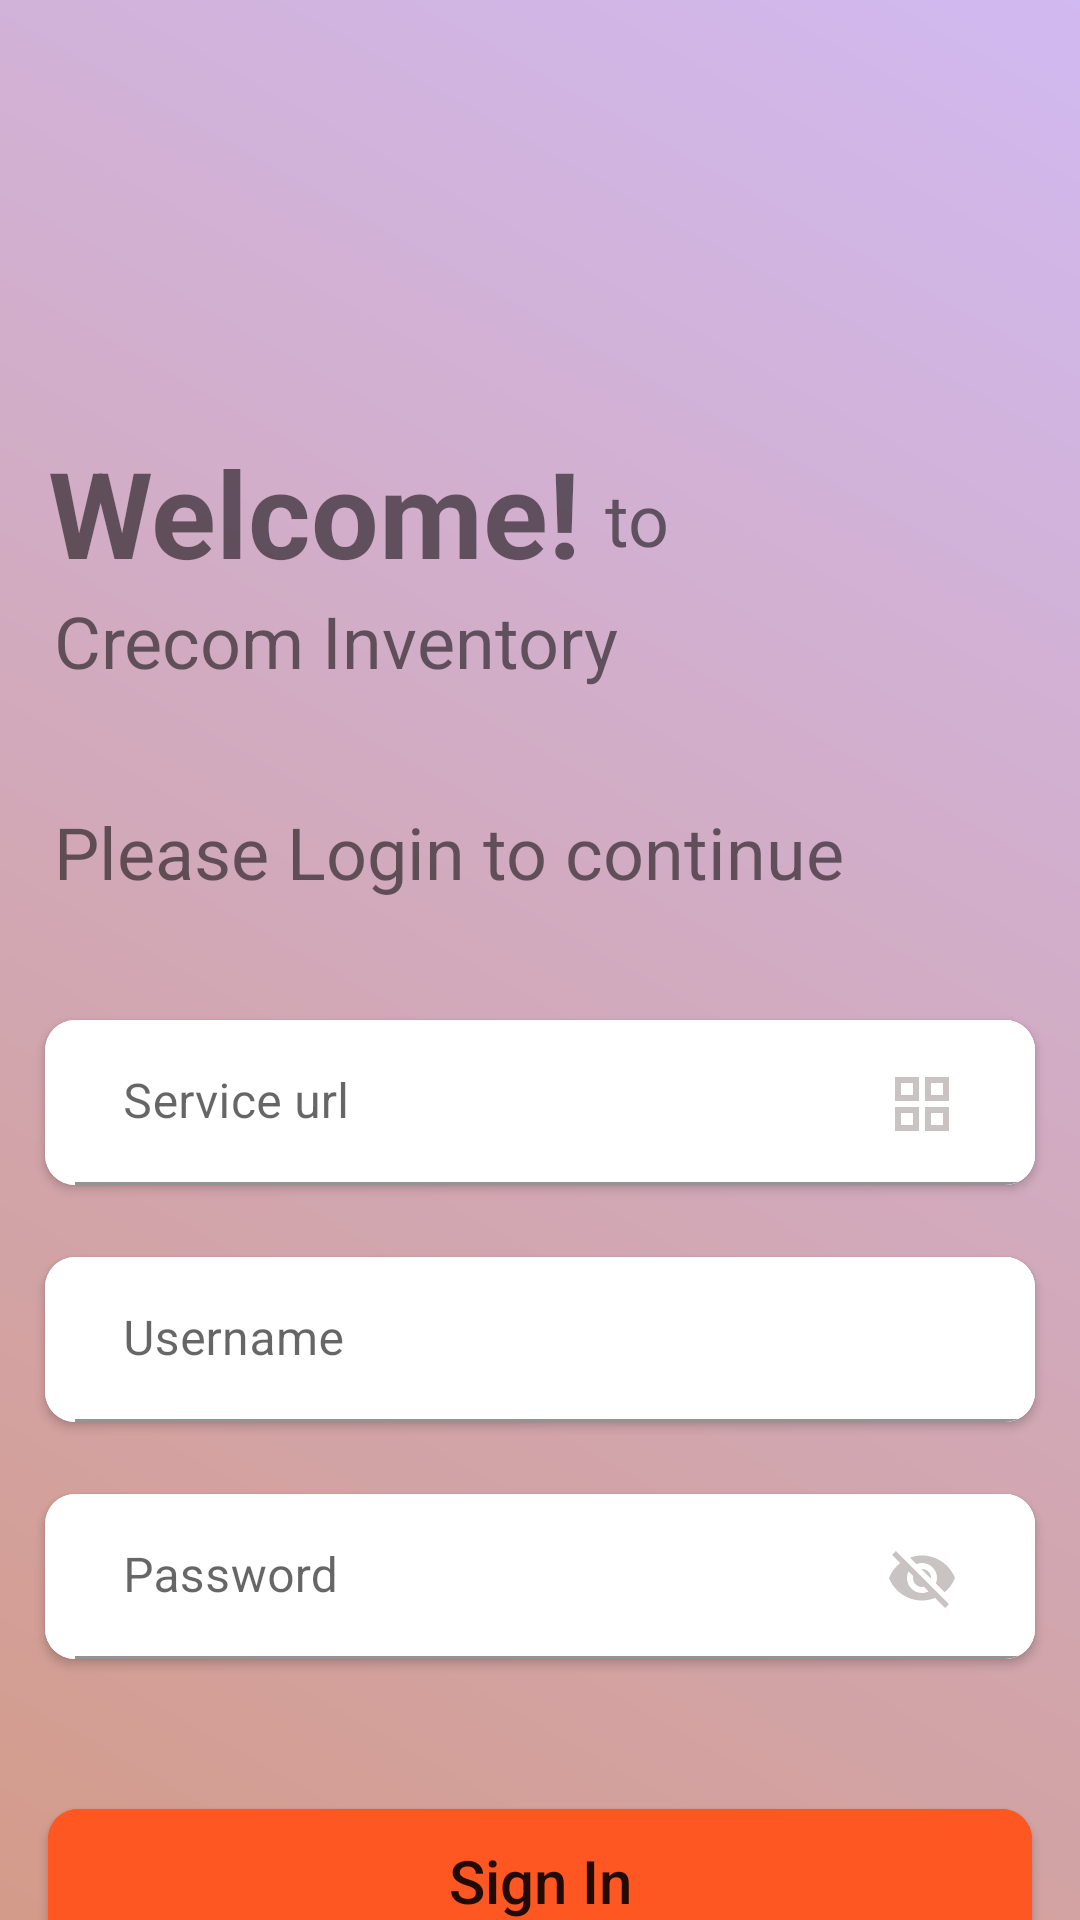

Icons on this 1080px×1920px Android screen, each with its box as region(x1, y1, x2, y2):
visible: region(889, 1551, 955, 1608)
